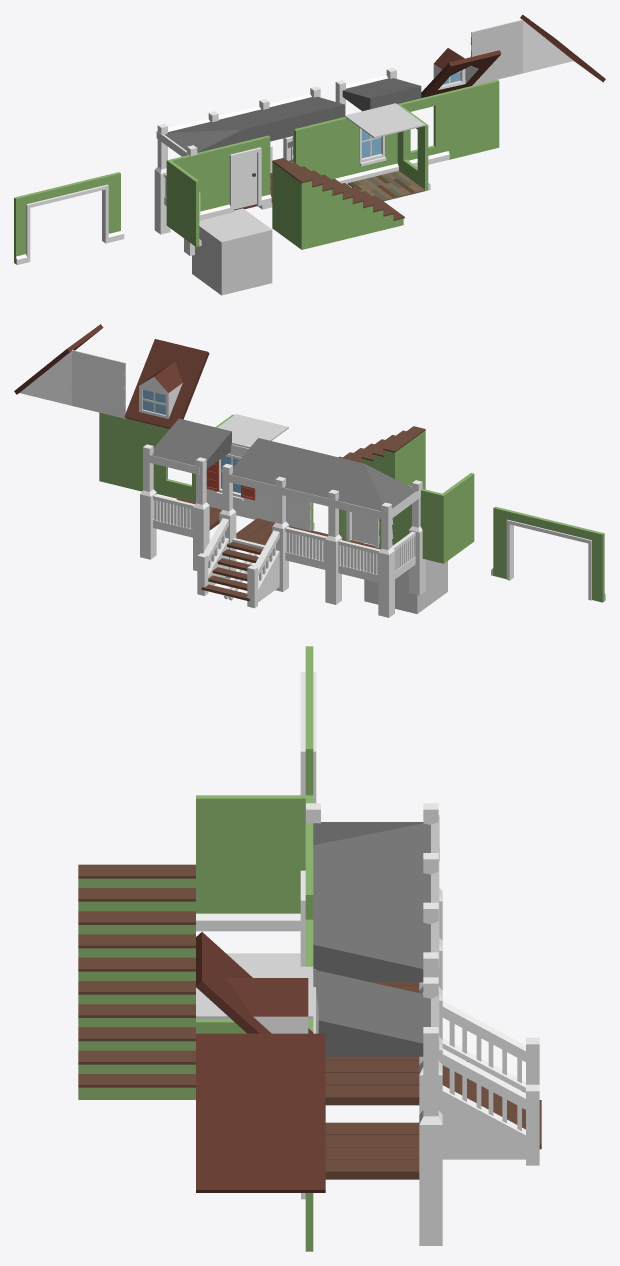
Rendered from Farmhouse.fbx.
The picture shows the model from 3 angles, top to bottom: view 1: azimuth 30°, elevation 25°; view 2: azimuth 150°, elevation 25°; view 3: azimuth 270°, elevation 25°; orthographic projection. The views are drawn at different scales.
Visible parts, largest first — view 1: Stairs, Foundation, Wall Corner, Porch Corner, Wall Extension, Doorway 2, Window 1 Corner, Wall 1, Siding Square, Doorway 1, Porch 2, Porch 1 (+9 smaller); view 2: Porch Corner, Porch 3, Porch 2, Porch 1, Roof 2, Wall Corner, Doorway 2, Wall Extension, Siding Square, Stairs, Foundation, Roof Edge (+8 smaller); view 3: Stairs, Porch 3, Porch 2, Roof 1, Wall Corner, Porch Corner, Porch 1, Roof 2, Roof Edge, Doorway 2, Ceiling 1, Doorway 1 (+1 smaller).
Part boxes in pixels (left/top/right/bottom): Stairs: left=272, top=158, right=404, bottom=249; Foundation: left=192, top=208, right=272, bottom=295; Wall Corner: left=166, top=148, right=220, bottom=246; Porch Corner: left=154, top=111, right=242, bottom=255; Wall Extension: left=447, top=79, right=499, bottom=159; Doorway 2: left=14, top=173, right=118, bottom=264; Window 1 Corner: left=397, top=92, right=449, bottom=191; Wall 1: left=294, top=117, right=347, bottom=184; Siding Square: left=470, top=19, right=522, bottom=85; Doorway 1: left=218, top=135, right=271, bottom=215; Porch 2: left=335, top=68, right=421, bottom=185; Porch 1: left=216, top=99, right=293, bottom=209; Porch Corner: left=325, top=464, right=425, bottom=617; Porch 3: left=197, top=438, right=310, bottom=608; Porch 2: left=140, top=418, right=231, bottom=570; Porch 1: left=272, top=451, right=363, bottom=591; Roof 2: left=124, top=339, right=209, bottom=428; Wall Corner: left=392, top=473, right=474, bottom=563; Doorway 2: left=496, top=507, right=605, bottom=602; Wall Extension: left=99, top=412, right=152, bottom=491; Siding Square: left=71, top=350, right=125, bottom=418; Stairs: left=339, top=426, right=425, bottom=489; Foundation: left=364, top=543, right=447, bottom=613; Roof Edge: left=14, top=346, right=72, bottom=405; Stairs: left=78, top=864, right=195, bottom=1099; Porch 3: left=313, top=895, right=541, bottom=1165; Porch 2: left=313, top=969, right=442, bottom=1245; Roof 1: left=196, top=1033, right=313, bottom=1192; Wall Corner: left=196, top=795, right=313, bottom=931; Porch Corner: left=306, top=803, right=442, bottom=992; Porch 1: left=313, top=845, right=442, bottom=1039; Roof 2: left=196, top=932, right=313, bottom=1033; Roof Edge: left=313, top=1033, right=325, bottom=1192; Doorway 2: left=300, top=646, right=316, bottom=803; Ceiling 1: left=196, top=966, right=313, bottom=1018; Doorway 1: left=300, top=845, right=313, bottom=966.
Size of the model in its own units: 2211 by 661 by 788.
